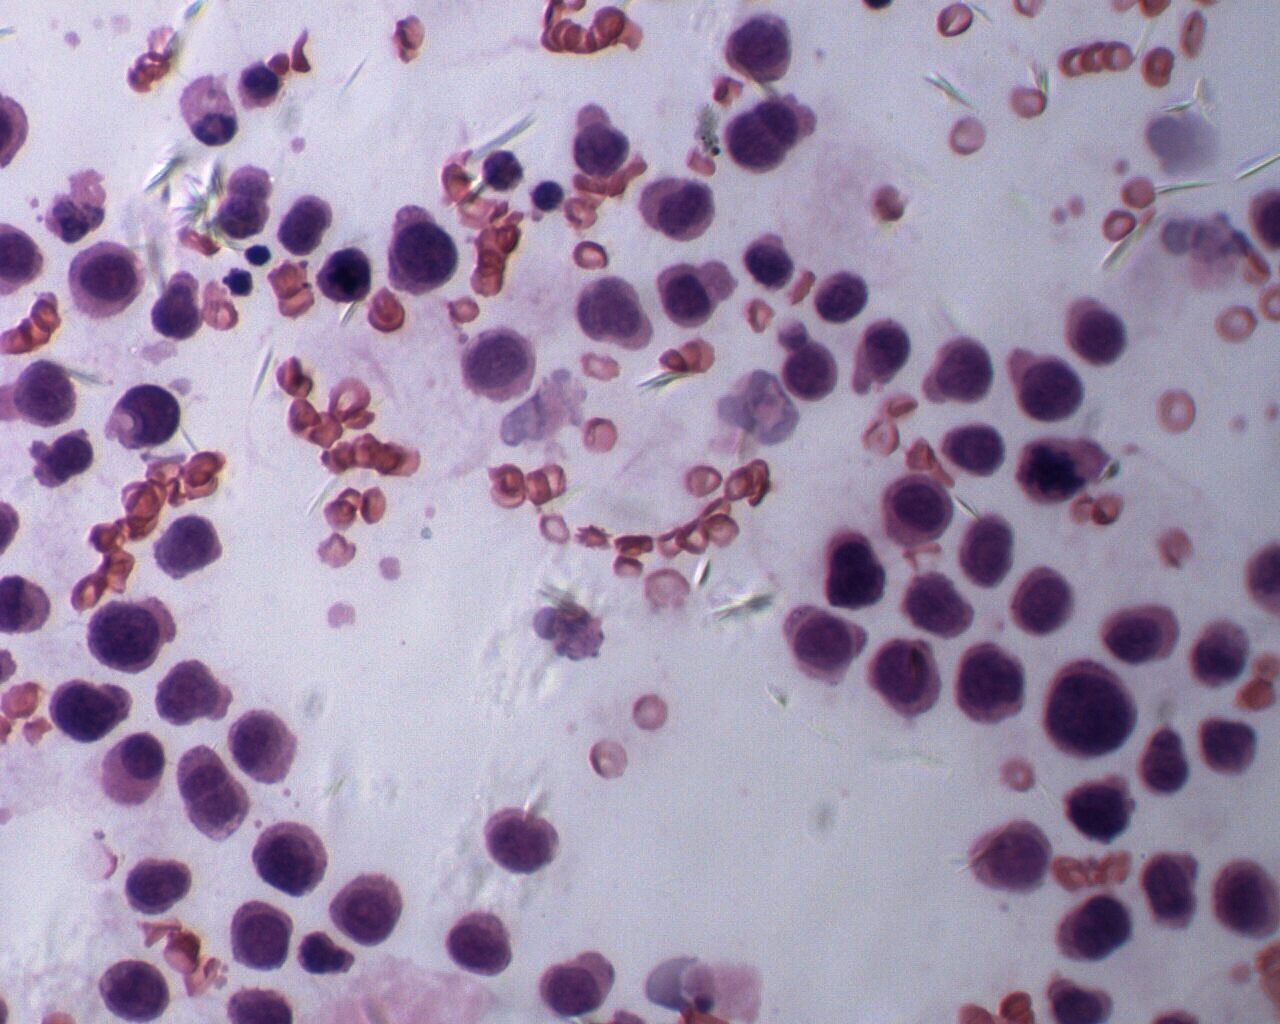ab: (1039, 659, 1137, 766), (378, 200, 461, 299), (60, 239, 144, 329), (784, 603, 869, 688), (956, 641, 1033, 732), (867, 636, 947, 723), (877, 468, 960, 550), (84, 603, 170, 680), (631, 174, 725, 245), (327, 870, 406, 950), (1057, 890, 1136, 970), (224, 894, 298, 975), (95, 730, 170, 809), (252, 819, 331, 893), (92, 951, 172, 1024), (656, 258, 738, 330), (1098, 600, 1180, 670), (723, 8, 796, 86), (1010, 565, 1077, 644), (444, 909, 515, 981), (123, 853, 194, 916)
